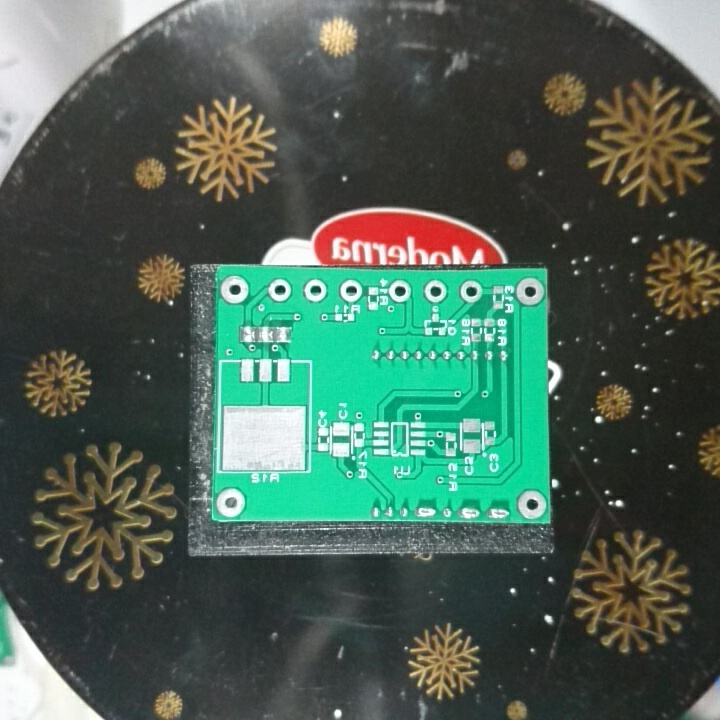F: (214, 486, 250, 520), (513, 275, 545, 309), (516, 489, 547, 522), (219, 275, 251, 305), (266, 277, 293, 303), (301, 278, 327, 304), (458, 278, 484, 304), (422, 279, 450, 303), (338, 279, 363, 303), (387, 279, 412, 303)
P: (414, 503, 439, 522), (485, 505, 511, 523), (458, 503, 481, 523)
